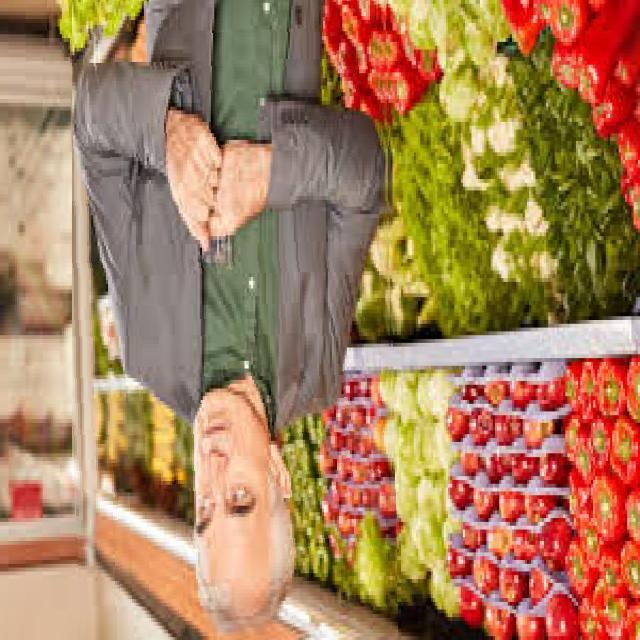Shoplifting: (72, 0, 395, 640)
